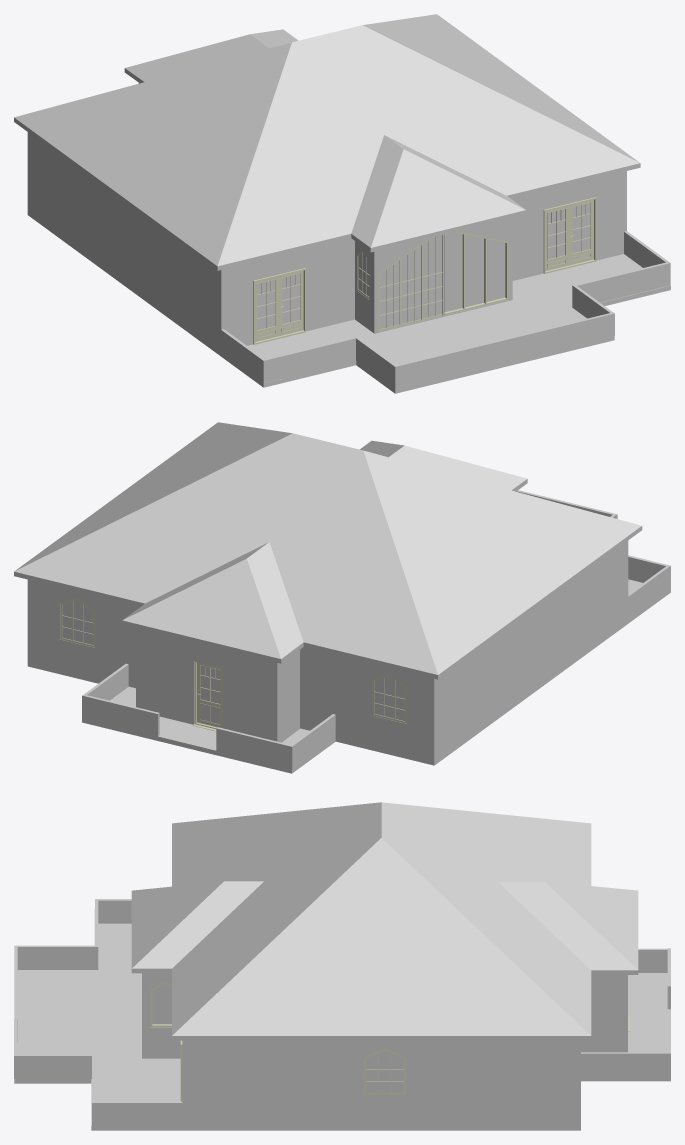
3 renders of one model, top to bottom at view 1: azimuth 30°, elevation 25°; view 2: azimuth 150°, elevation 25°; view 3: azimuth 270°, elevation 25°, orthographic. The views are drawn at different scales.
Visible parts, largest first — view 1: .li3dsubmesh_027, .li3dsubmesh_026, .li3dsubmesh_003, .li3dsubmesh_005, .li3dsubmesh_002, .li3dsubmesh_029, .li3dsubmesh_028; view 2: .li3dsubmesh_027, .li3dsubmesh_026, .li3dsubmesh_003, .li3dsubmesh_028, .li3dsubmesh_005, .li3dsubmesh_029, .li3dsubmesh_002; view 3: .li3dsubmesh_027, .li3dsubmesh_026, .li3dsubmesh_002, .li3dsubmesh_003, .li3dsubmesh_028, .li3dsubmesh_005, .li3dsubmesh_029.
Part boxes in pixels (x1,y1,x2,y2): .li3dsubmesh_027: [14, 14, 640, 266]; .li3dsubmesh_026: [27, 83, 670, 393]; .li3dsubmesh_003: [221, 231, 670, 389]; .li3dsubmesh_005: [257, 203, 590, 330]; .li3dsubmesh_002: [247, 254, 670, 382]; .li3dsubmesh_029: [253, 197, 596, 344]; .li3dsubmesh_028: [14, 68, 640, 270]; .li3dsubmesh_027: [14, 422, 641, 674]; .li3dsubmesh_026: [27, 541, 670, 773]; .li3dsubmesh_003: [82, 490, 670, 768]; .li3dsubmesh_028: [14, 479, 642, 679]; .li3dsubmesh_005: [62, 600, 405, 721]; .li3dsubmesh_029: [60, 598, 406, 731]; .li3dsubmesh_002: [110, 579, 642, 750]; .li3dsubmesh_027: [131, 802, 638, 1035]; .li3dsubmesh_026: [14, 973, 670, 1130]; .li3dsubmesh_002: [17, 923, 670, 1125]; .li3dsubmesh_003: [14, 899, 670, 1125]; .li3dsubmesh_028: [131, 968, 638, 1040]; .li3dsubmesh_005: [152, 983, 403, 1092]; .li3dsubmesh_029: [150, 981, 630, 1101].
Size of the model in its own units: 14611 by 6689 by 19080.
